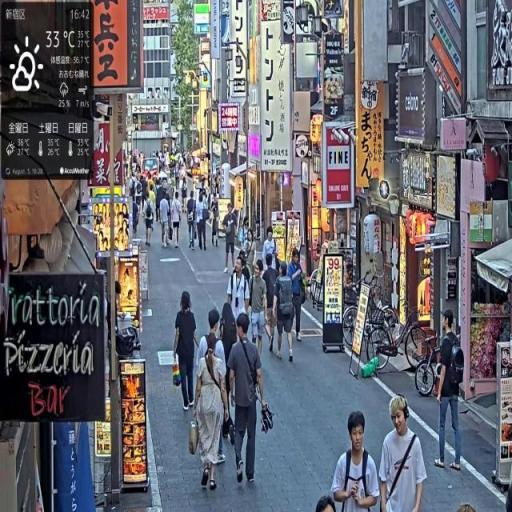person: (227, 312, 269, 488), (192, 335, 230, 492), (379, 393, 427, 512), (331, 408, 382, 512), (435, 311, 466, 476), (174, 292, 199, 413), (273, 261, 298, 364), (288, 248, 308, 343), (249, 260, 268, 358), (223, 204, 239, 277), (196, 191, 209, 252), (159, 191, 172, 248), (144, 193, 156, 250), (172, 192, 184, 247), (187, 193, 198, 249), (211, 196, 222, 249)
